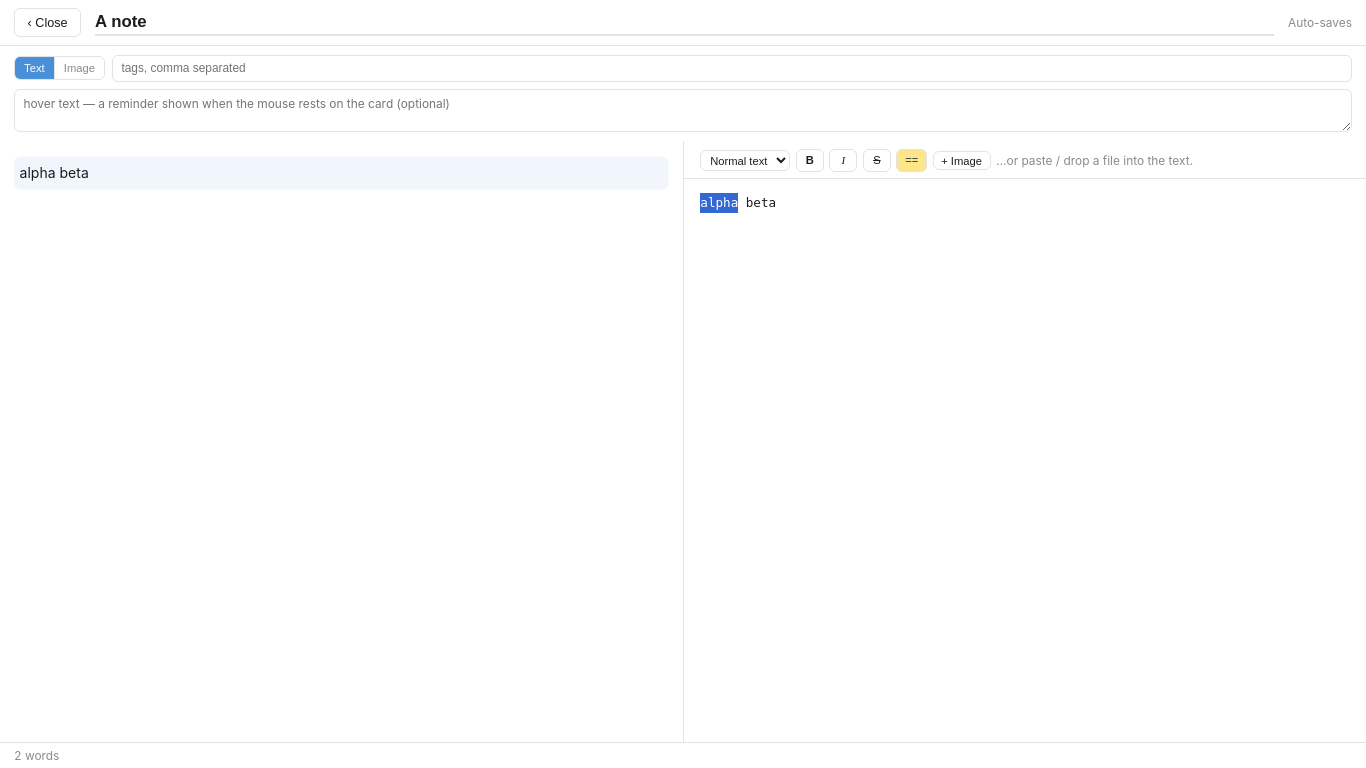
Test: formatting toolbar › has an italic button
expect the text box with placeholder "Write in Markdown…" holds "alpha beta": met, box left=684, top=179, right=1365, bottom=742
Click the button named "Italic": [843, 161] box left=829, top=149, right=857, bottom=172
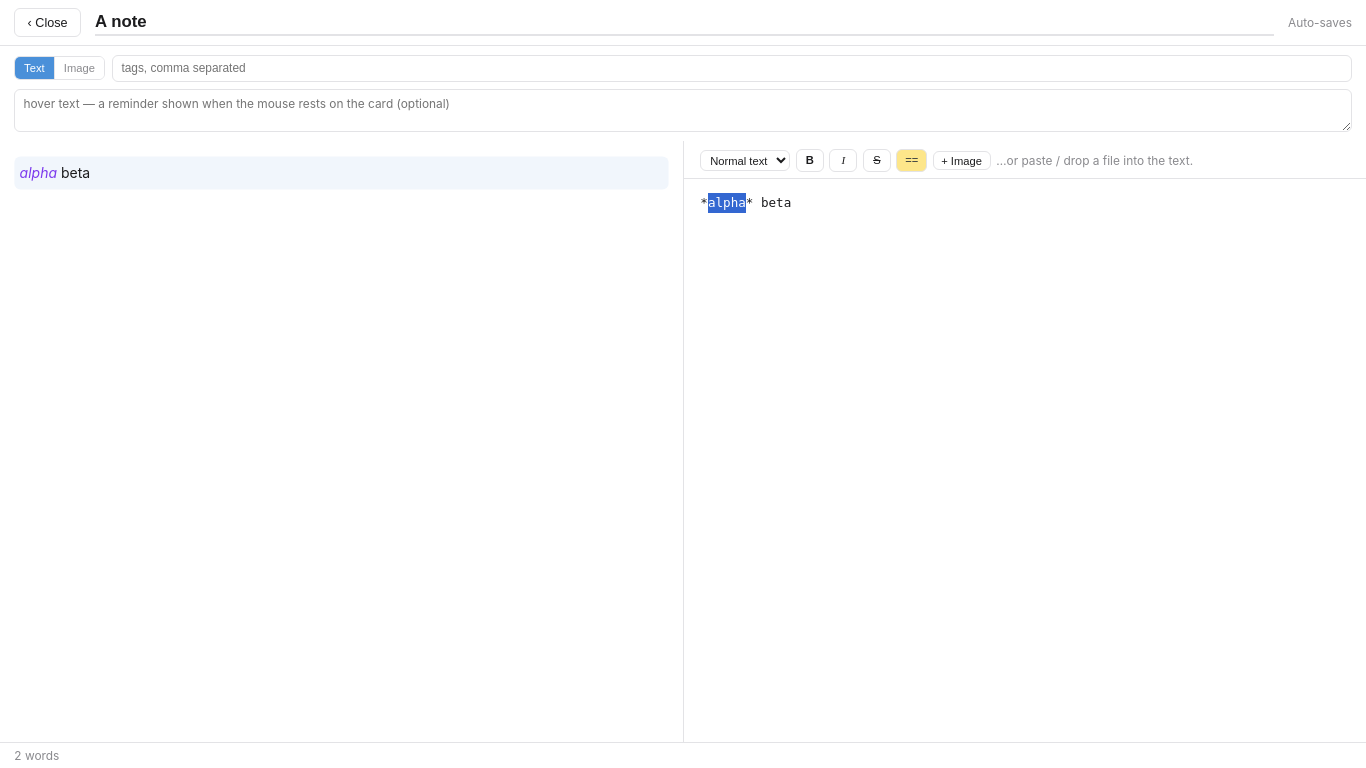
expect the text box with placeholder "Write in Markdown…" holds "*alpha* beta": met, box left=684, top=179, right=1365, bottom=742
